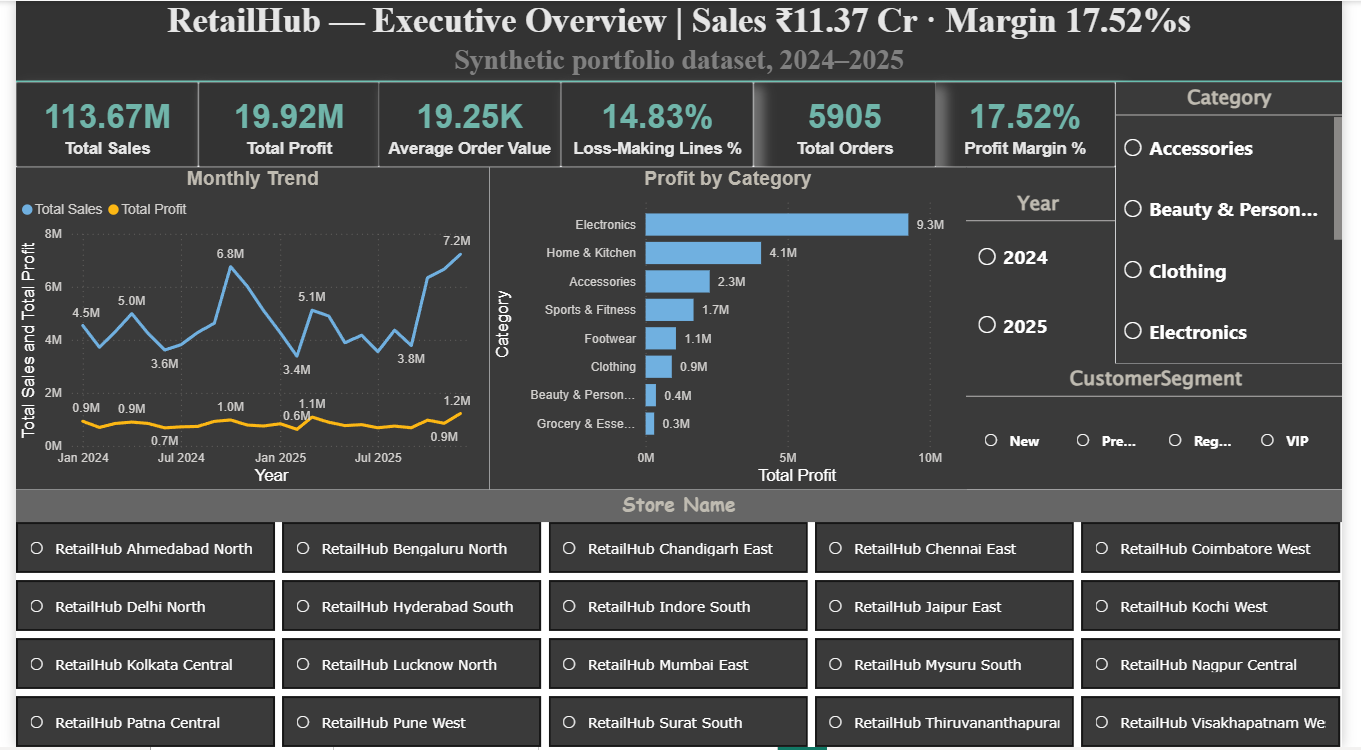

The page's visual inventory and layout, read from the dashboard file:
{"tool":"powerbi","page":{"name":"Executive Overview","canvas":[1280,720],"ordinal":0},"visuals":[{"type":"shape","title":"RetailHub — Executive Overview | Sales ₹11.37 Cr · Margin 17.52%s ","box":[0,0,1280,78.6],"z":0},{"type":"card","fields":{"Values":["customers.Total Sales"]},"box":[0,78.6,175.7,81.4],"z":1000},{"type":"card","fields":{"Values":["customers.Total Profit"]},"box":[175.7,78.6,174.3,81.4],"z":2000},{"type":"card","fields":{"Values":["customers.Profit Margin %"]},"box":[887.1,78.6,174.3,81.4],"z":3000},{"type":"card","fields":{"Values":["customers.Total Orders"]},"box":[711.4,78.6,175.7,81.4],"z":4000},{"type":"card","fields":{"Values":["customers.Average Order Value"]},"box":[350,78.6,175.7,81.4],"z":5000},{"type":"card","fields":{"Values":["customers.Loss-Making Lines %"]},"box":[525.7,78.6,185.7,81.4],"z":6000},{"type":"lineChart","title":"Monthly Trend","fields":{"Y":["customers.Total Sales","customers.Total Profit"],"Category":["orders.OrderDate.Variation.Date Hierarchy.Year","orders.OrderDate.Variation.Date Hierarchy.Month"]},"box":[0,160,457.1,311.4],"z":7000},{"type":"clusteredBarChart","title":"Profit by Category","fields":{"Category":["products.Category"],"Y":["customers.Total Profit"]},"box":[457.1,160,460,311.4],"z":8000},{"type":"listSlicer","fields":{"Values":["orders.OrderDate.Variation.Date Hierarchy.Year"]},"box":[917.1,160,144.3,190],"z":9000},{"type":"listSlicer","fields":{"Values":["products.Category"]},"box":[1061.4,78.6,218.6,271.4],"z":10000},{"type":"advancedSlicerVisual","fields":{"Values":["customers.CustomerSegment"]},"box":[917.1,350,362.9,121.4],"z":11000},{"type":"advancedSlicerVisual","title":"Store Name","fields":{"Values":["stores.StoreName"]},"box":[0,471.4,1280,248.6],"z":12001}]}

Visuals, with their boxes in screenshot pixels (x1, y1, x2, y2), scaled from the page's 1280x720 canvas onto the 1361x750 screenshot:
"RetailHub — Executive Overview | Sales ₹11.37 Cr · Margin 17.52%s " shape: 0,0,1360,82
card - customers.Total Sales: 0,82,187,167
card - customers.Total Profit: 187,82,372,167
card - customers.Profit Margin %: 943,82,1129,167
card - customers.Total Orders: 756,82,943,167
card - customers.Average Order Value: 372,82,559,167
card - customers.Loss-Making Lines %: 559,82,756,167
"Monthly Trend" lineChart: 0,167,486,491
"Profit by Category" clusteredBarChart: 486,167,975,491
listSlicer - orders.OrderDate.Variation.Date Hierarchy.Year: 975,167,1129,365
listSlicer - products.Category: 1129,82,1360,365
advancedSlicerVisual - customers.CustomerSegment: 975,365,1360,491
"Store Name" advancedSlicerVisual: 0,491,1360,749
